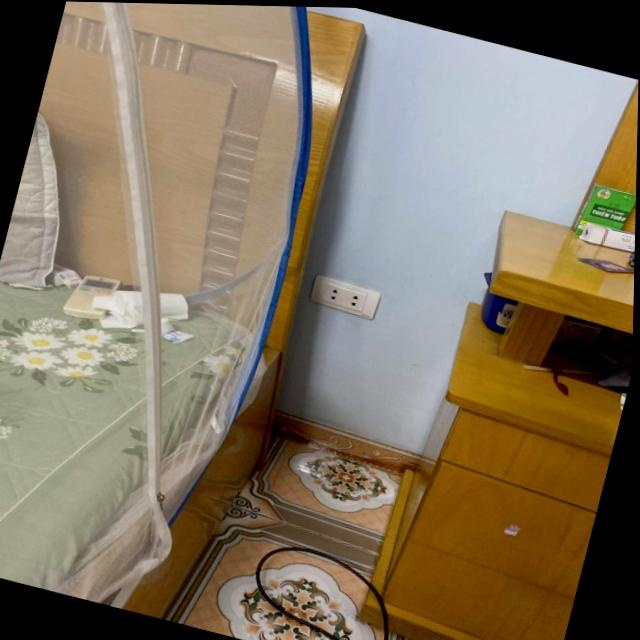outlet: (307, 272, 382, 321)
